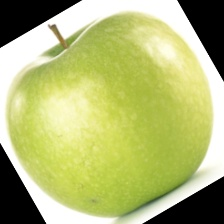apple: (24, 42, 215, 191)
